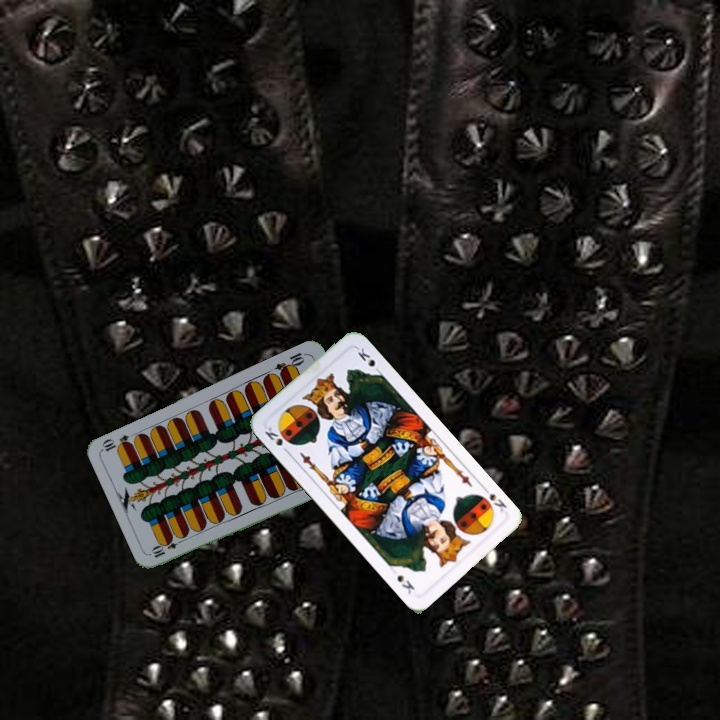E10: (271, 348, 309, 378), (148, 534, 187, 561)
SK: (260, 423, 292, 457), (478, 482, 509, 514)
